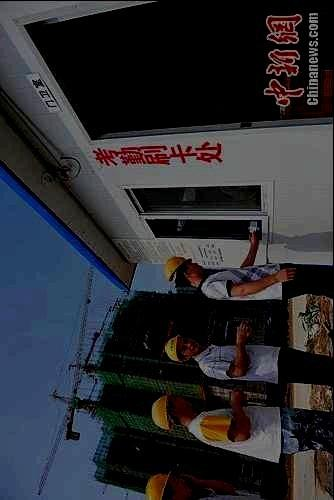helmet: (150, 389, 192, 431), (144, 469, 194, 500), (163, 256, 204, 288), (163, 334, 199, 363)
